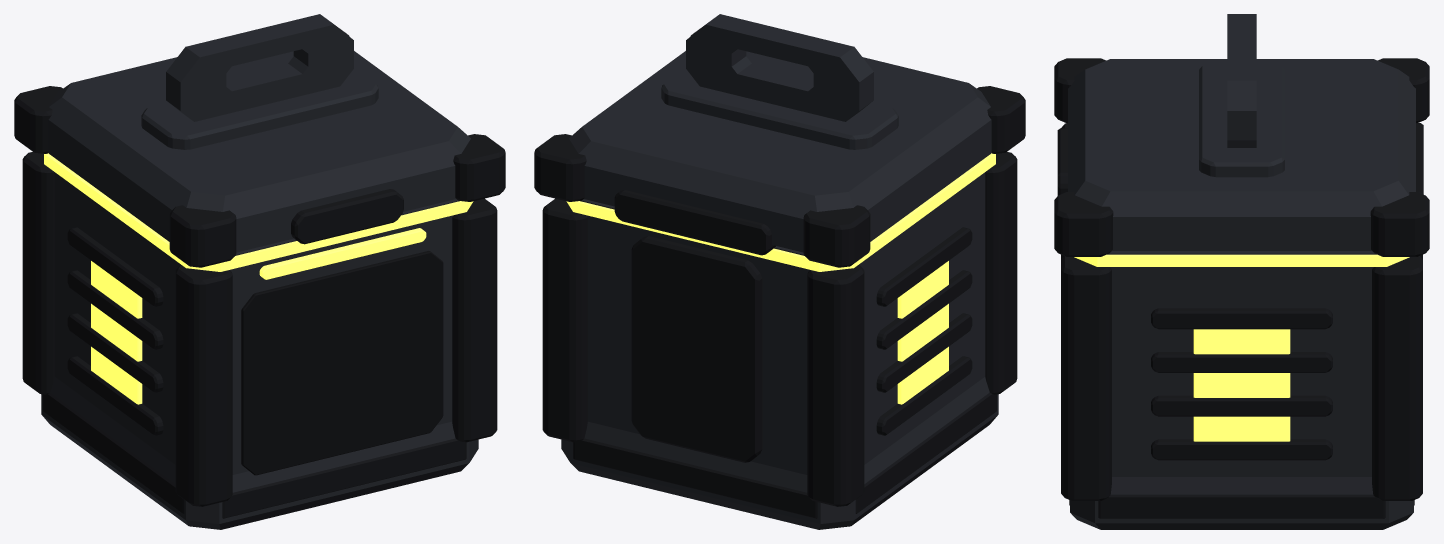
The model's file is CharmBox.fbx.
3 views of the same model, side by side, from view 1: azimuth 30°, elevation 25°; view 2: azimuth 150°, elevation 25°; view 3: azimuth 270°, elevation 25° (orthographic).
Visible parts, largest first — view 1: Lid_Box, Body_Trim, Body_Label, Body_Box, Lid_Trim, Body_Glow; view 2: Body_Trim, Lid_Box, Body_Box, Lid_Trim, Body_Glow; view 3: Lid_Box, Body_Trim, Body_Box, Body_Glow, Lid_Trim.
Boxes of the visible parts, <box> form: Lid_Box: <box>48,14,470,252</box>; Body_Trim: <box>22,152,497,518</box>; Body_Label: <box>241,251,443,475</box>; Body_Box: <box>41,154,478,529</box>; Lid_Trim: <box>14,28,505,267</box>; Body_Glow: <box>44,153,473,404</box>; Body_Trim: <box>542,152,1017,518</box>; Lid_Box: <box>569,14,991,252</box>; Body_Box: <box>561,154,998,529</box>; Lid_Trim: <box>534,28,1025,267</box>; Body_Glow: <box>566,153,995,404</box>; Lid_Box: <box>1068,14,1415,250</box>; Body_Trim: <box>1061,123,1422,518</box>; Body_Box: <box>1070,251,1413,529</box>; Body_Glow: <box>1074,254,1409,441</box>; Lid_Trim: <box>1054,58,1429,256</box>.
Size of the model in its own units: 1.4 by 1.7 by 1.4.
